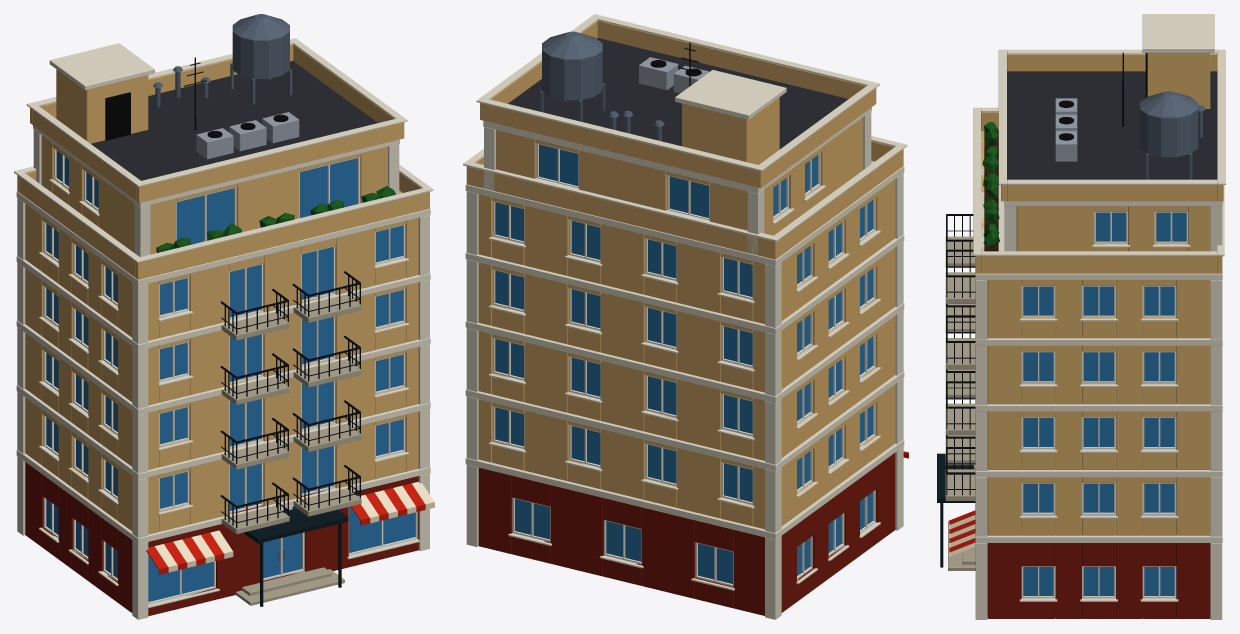
The model's file is WL_Building_Apartment_A.obj.
3 renders of one model, left to right at view 1: azimuth 30°, elevation 25°; view 2: azimuth 150°, elevation 25°; view 3: azimuth 270°, elevation 25°, orthographic. The views are drawn at different scales.
Visible parts, largest first — view 1: WL_Building_Apartment_A_Floor4_Walls, WL_Building_Apartment_A_Roof_Deck, WL_Building_Apartment_A_Floor2_Walls, WL_Building_Apartment_A_Floor3_Walls, WL_Building_Apartment_A_Floor1_Walls, WL_Building_Apartment_A_Floor0_Walls, WL_Building_Apartment_A_Floor5_Walls, WL_Building_Apartment_A_Roof_Parapet, WL_Building_Apartment_A_Terrace_Parapet, WL_Building_Apartment_A_Floor0_Glass, WL_Building_Apartment_A_Floor5_Glass, WL_Building_Apartment_A_Floor4_Glass (+45 smaller); view 2: WL_Building_Apartment_A_Floor0_Walls, WL_Building_Apartment_A_Floor1_Walls, WL_Building_Apartment_A_Floor2_Walls, WL_Building_Apartment_A_Floor3_Walls, WL_Building_Apartment_A_Floor4_Walls, WL_Building_Apartment_A_Roof_Parapet, WL_Building_Apartment_A_Floor5_Walls, WL_Building_Apartment_A_Roof_Deck, WL_Building_Apartment_A_Terrace_Parapet, WL_Building_Apartment_A_Roof_Parapet_Cap, WL_Building_Apartment_A_Floor1_Glass, WL_Building_Apartment_A_Floor3_Glass (+32 smaller); view 3: WL_Building_Apartment_A_Roof_Deck, WL_Building_Apartment_A_Floor0_Walls, WL_Building_Apartment_A_Floor4_Walls, WL_Building_Apartment_A_Floor3_Walls, WL_Building_Apartment_A_Floor1_Walls, WL_Building_Apartment_A_Floor2_Walls, WL_Building_Apartment_A_Floor5_Walls, WL_Building_Apartment_A_Roof_Parapet, WL_Building_Apartment_A_Terrace_Parapet, WL_Building_Apartment_A_Roof_Parapet_Cap, WL_Building_Apartment_A_Roof_WaterTank, WL_Building_Apartment_A_Terrace_Parapet_Cap (+44 smaller).
Boxes of the visible parts, box(x1,y1,x2,y2) form: WL_Building_Apartment_A_Floor4_Walls: box(25, 190, 418, 340); WL_Building_Apartment_A_Roof_Deck: box(91, 61, 377, 180); WL_Building_Apartment_A_Floor2_Walls: box(25, 333, 418, 469); WL_Building_Apartment_A_Floor3_Walls: box(25, 268, 418, 405); WL_Building_Apartment_A_Floor1_Walls: box(25, 397, 418, 534); WL_Building_Apartment_A_Floor0_Walls: box(25, 462, 418, 616); WL_Building_Apartment_A_Floor5_Walls: box(41, 135, 387, 254); WL_Building_Apartment_A_Roof_Parapet: box(30, 44, 404, 202); WL_Building_Apartment_A_Terrace_Parapet: box(17, 171, 429, 279); WL_Building_Apartment_A_Floor0_Glass: box(46, 499, 415, 601); WL_Building_Apartment_A_Floor5_Glass: box(56, 150, 357, 244); WL_Building_Apartment_A_Floor4_Glass: box(46, 223, 402, 317); WL_Building_Apartment_A_Floor0_Walls: box(478, 453, 895, 615); WL_Building_Apartment_A_Floor1_Walls: box(478, 384, 895, 529); WL_Building_Apartment_A_Floor2_Walls: box(478, 316, 895, 460); WL_Building_Apartment_A_Floor3_Walls: box(478, 247, 895, 392); WL_Building_Apartment_A_Floor4_Walls: box(478, 161, 895, 324); WL_Building_Apartment_A_Roof_Parapet: box(480, 20, 876, 188); WL_Building_Apartment_A_Floor5_Walls: box(496, 118, 862, 235); WL_Building_Apartment_A_Roof_Deck: box(508, 38, 848, 149); WL_Building_Apartment_A_Terrace_Parapet: box(466, 141, 903, 259); WL_Building_Apartment_A_Roof_Parapet_Cap: box(476, 14, 879, 171); WL_Building_Apartment_A_Floor1_Glass: box(495, 405, 872, 502); WL_Building_Apartment_A_Floor3_Glass: box(495, 268, 872, 365); WL_Building_Apartment_A_Roof_Deck: box(1007, 71, 1217, 179); WL_Building_Apartment_A_Floor0_Walls: box(987, 543, 1210, 618); WL_Building_Apartment_A_Floor4_Walls: box(981, 131, 1210, 338); WL_Building_Apartment_A_Floor3_Walls: box(987, 346, 1210, 404); WL_Building_Apartment_A_Floor1_Walls: box(987, 477, 1210, 535); WL_Building_Apartment_A_Floor2_Walls: box(987, 411, 1210, 469); WL_Building_Apartment_A_Floor5_Walls: box(1016, 206, 1210, 251); WL_Building_Apartment_A_Roof_Parapet: box(1001, 54, 1223, 201); WL_Building_Apartment_A_Terrace_Parapet: box(975, 112, 1222, 273); WL_Building_Apartment_A_Roof_Parapet_Cap: box(998, 49, 1225, 184); WL_Building_Apartment_A_Roof_WaterTank: box(1140, 91, 1198, 179); WL_Building_Apartment_A_Terrace_Parapet_Cap: box(973, 107, 1224, 256).
Size of the model in its own units: 14.4 by 22.35 by 11.95.
